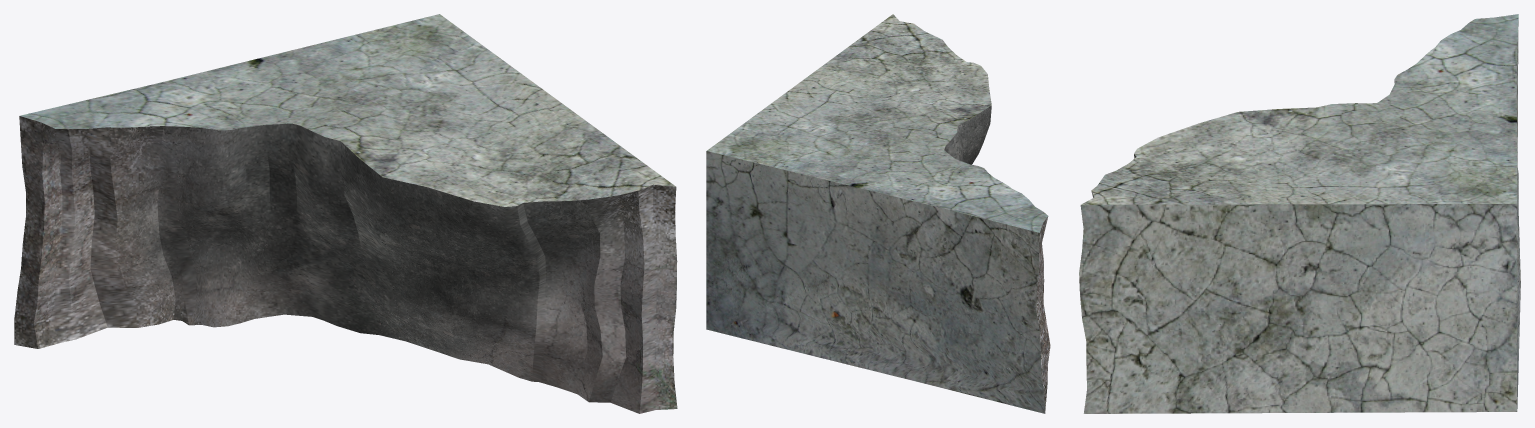
The model's file is BrokenConcretePieceSloped2.fbx.
The picture shows the model from 3 angles, left to right: view 1: azimuth 30°, elevation 25°; view 2: azimuth 150°, elevation 25°; view 3: azimuth 270°, elevation 25°; orthographic projection. The views are drawn at different scales.
Visible parts, largest first — view 1: ConcreteBlockBrokenSlopedPiece2; view 2: ConcreteBlockBrokenSlopedPiece2; view 3: ConcreteBlockBrokenSlopedPiece2.
Part boxes in pixels (bbox=[...]): ConcreteBlockBrokenSlopedPiece2: bbox=[14, 14, 677, 413]; ConcreteBlockBrokenSlopedPiece2: bbox=[706, 14, 1050, 413]; ConcreteBlockBrokenSlopedPiece2: bbox=[1079, 14, 1520, 413].
Size of what is drawn, in the model's own units: 426 by 225 by 409.
